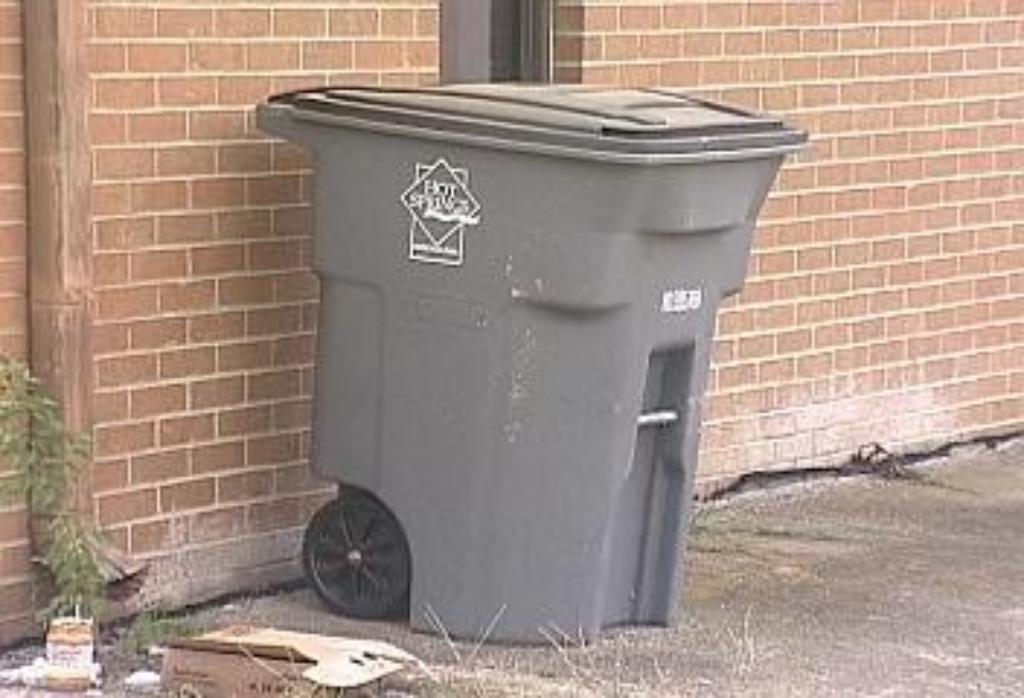dustbin: (243, 58, 809, 654)
